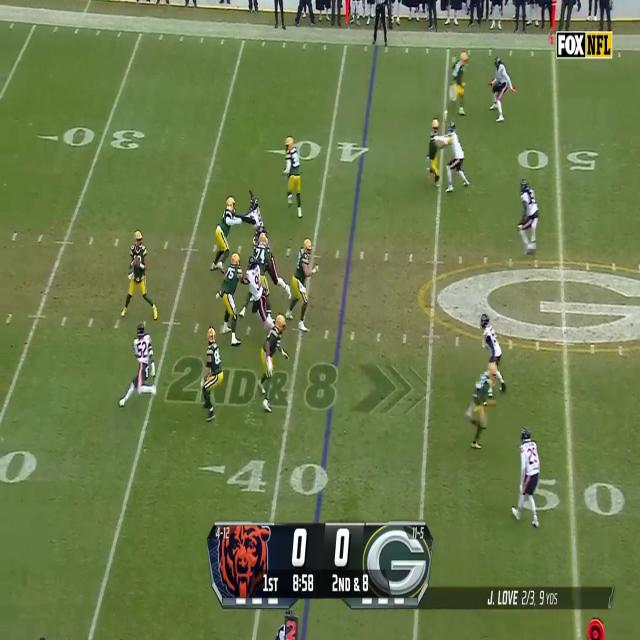Player: (515, 427, 540, 530), (470, 363, 498, 450), (260, 315, 286, 405), (125, 229, 150, 317), (290, 237, 312, 331), (222, 252, 243, 348), (202, 327, 223, 421), (132, 319, 154, 405), (518, 179, 540, 256), (213, 195, 235, 271), (284, 135, 302, 220), (449, 48, 469, 116), (446, 120, 463, 195), (247, 254, 263, 326), (426, 118, 442, 190), (482, 314, 504, 364), (492, 55, 507, 124), (243, 195, 262, 239), (254, 230, 271, 268)
